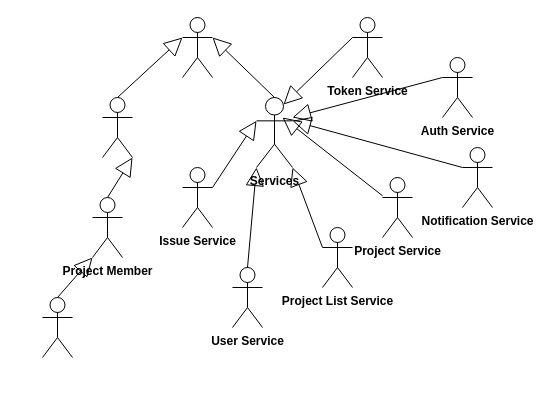
Image size: 551x396. Some labels were removed from this diagram. Each missing label, with the centre of its shape:
Actors: the point at 197,47
Project Owner: the point at 57,327
Visitor: the point at 117,127
